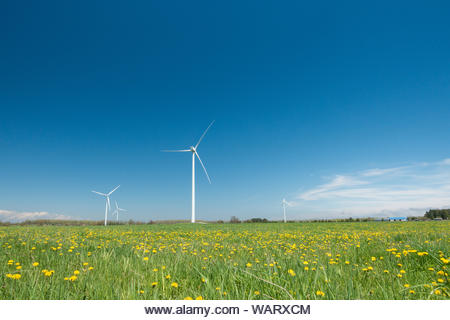faulty: (275, 195, 294, 218)
working: (162, 124, 221, 215)
